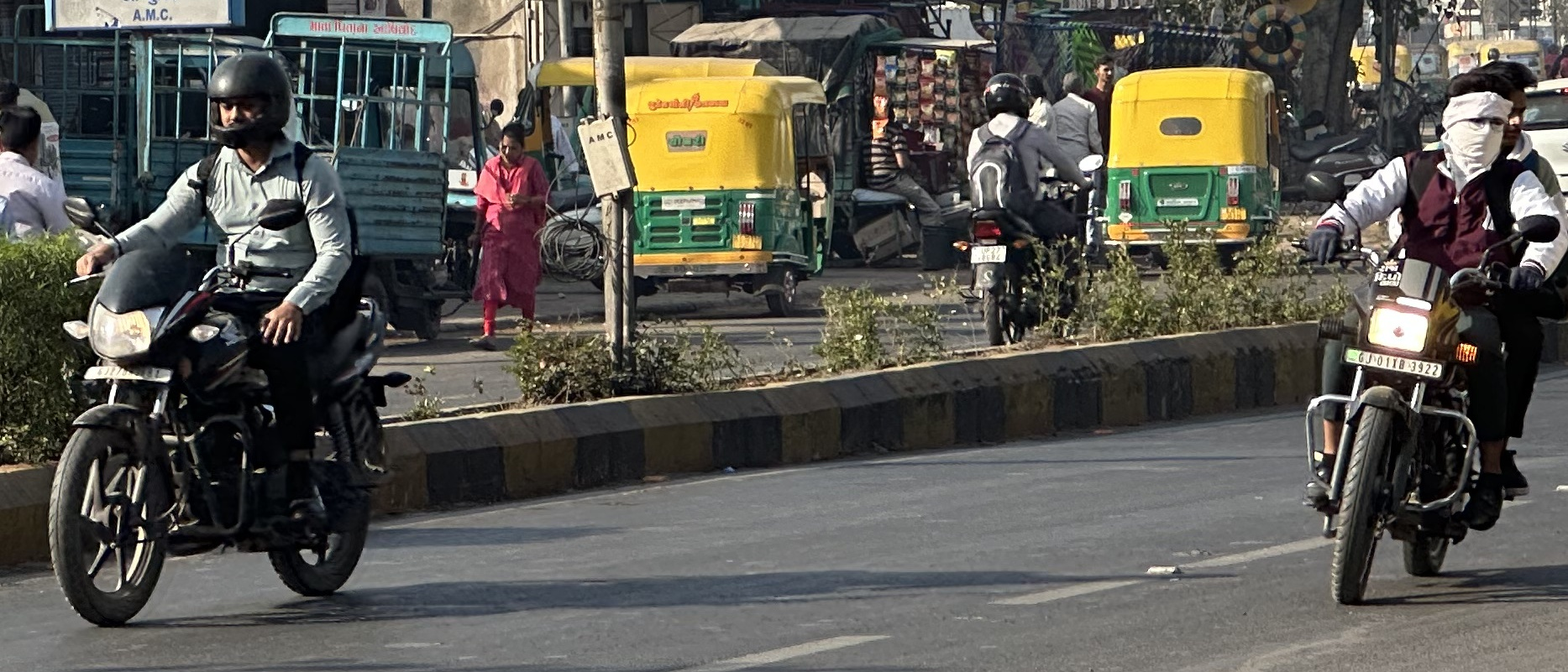BikeWithRider: (35, 44, 422, 638), (1281, 47, 1568, 617), (944, 60, 1101, 363)
Helmet: (198, 45, 303, 158)
NoHelmet: (1433, 67, 1522, 179), (1461, 55, 1549, 146), (976, 65, 1039, 127)
